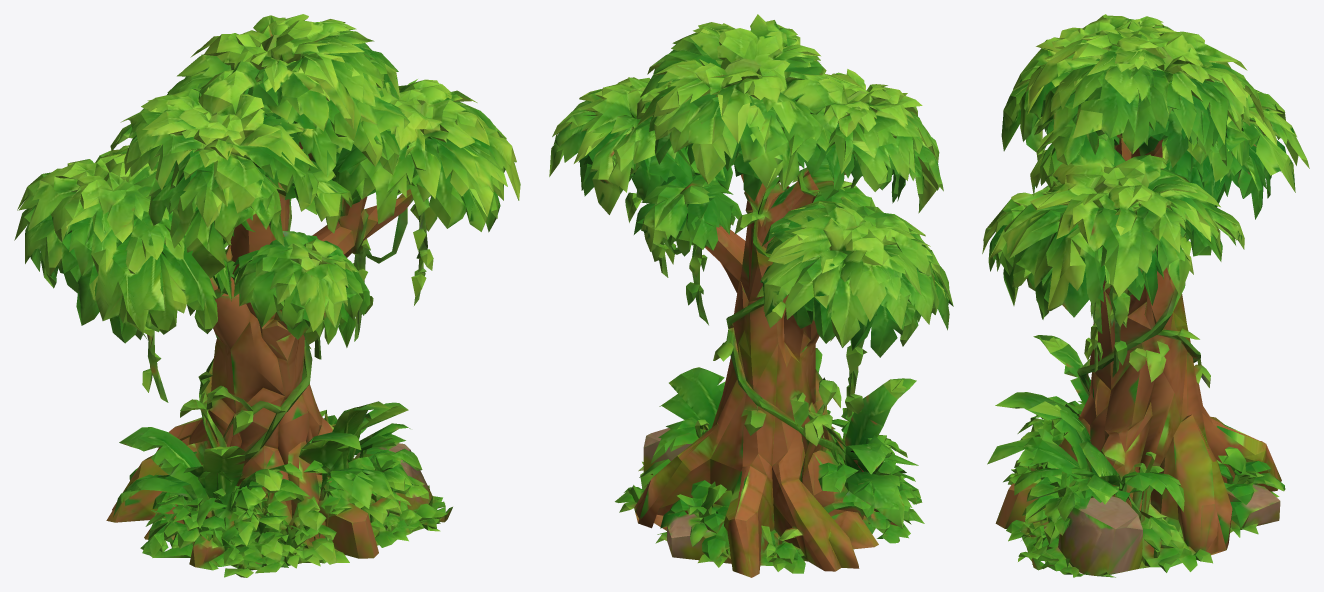
Rendered from tree.rt.glb.
The picture shows the model from 3 angles, left to right: view 1: azimuth 30°, elevation 25°; view 2: azimuth 150°, elevation 25°; view 3: azimuth 270°, elevation 25°; orthographic projection. The views are drawn at different scales.
Visible parts, largest first — view 1: output_unwrapped; view 2: output_unwrapped; view 3: output_unwrapped.
Boxes of the visible parts, left/top/right/bottom form: output_unwrapped: left=14, top=14, right=520, bottom=577; output_unwrapped: left=549, top=14, right=953, bottom=577; output_unwrapped: left=982, top=14, right=1309, bottom=577.
Bounding box in the file's own units: 1.78 × 1.9 × 1.17.
1 material, 1 textured.
